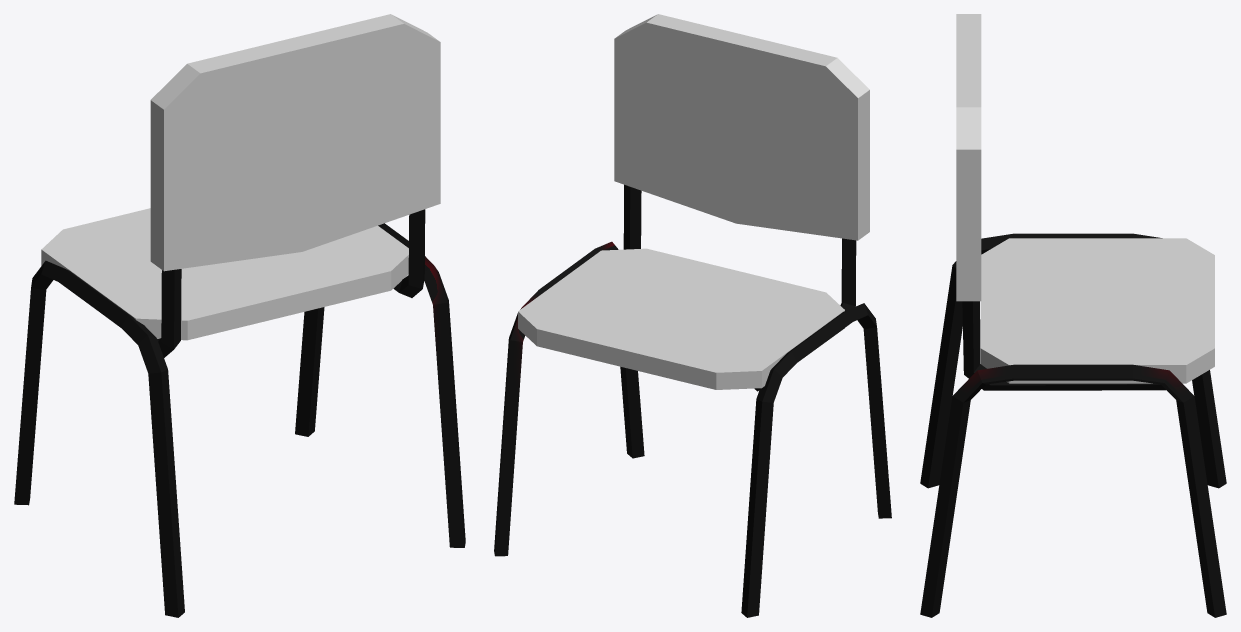
Rendered from bloody chair.glb.
3 views of the same model, side by side, from view 1: azimuth 30°, elevation 25°; view 2: azimuth 150°, elevation 25°; view 3: azimuth 270°, elevation 25° (orthographic). The views are drawn at different scales.
Parts seen in each view (by area): view 1: Cube.226; view 2: Cube.226; view 3: Cube.226.
Part boxes in pixels (x1=…): Cube.226: x1=14, y1=14, x2=465, y2=617; Cube.226: x1=494, y1=14, x2=891, y2=617; Cube.226: x1=920, y1=14, x2=1226, y2=617.
Size of the model in its own units: 1.19 by 1.97 by 1.12.
Materials: 2 (1 with a texture image).
